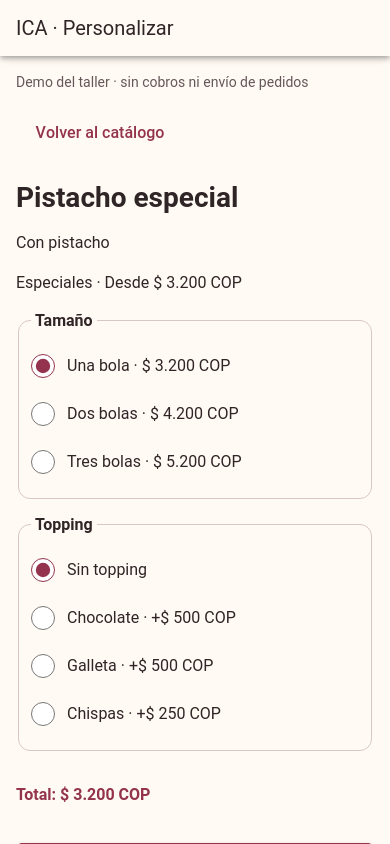
Test case: usa el precio del servicio y permite seleccionar tamaño y topping con sus etiquetas
This screenshot has width=390, height=844.
Expected: the heading "Pistacho especial" is shown, [16,181,238,214]
Click the radio button labelled "Dos bolas · $ 4.200 COP".
click(43, 414)  # box [31,402,55,426]
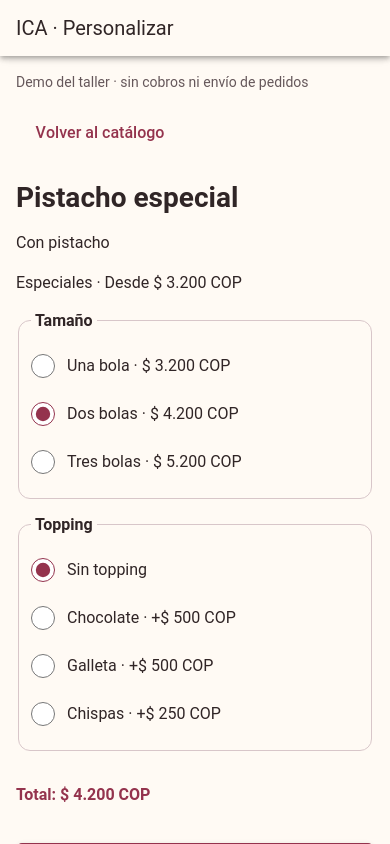
Click the radio button labelled "Chocolate · +$ 500 COP".
click(43, 618)  # box [31,606,55,630]
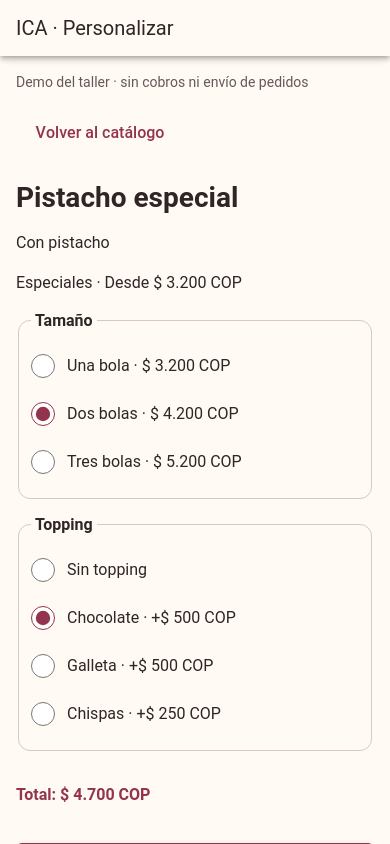
Result: the radio button labelled "Dos bolas · $ 4.200 COP" is checked at [31,402,55,426]
Result: the text "Total: $ 4.700 COP" is shown at [16,785,150,804]
